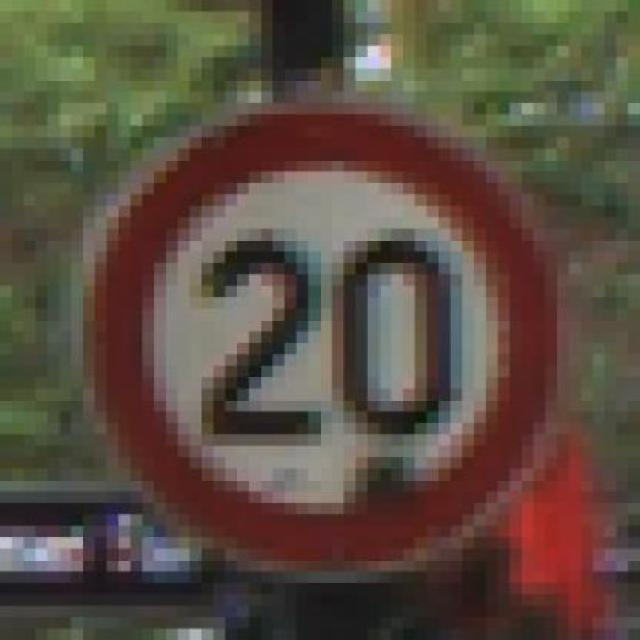Speed Limit 20 KMPh: (70, 91, 604, 572)
